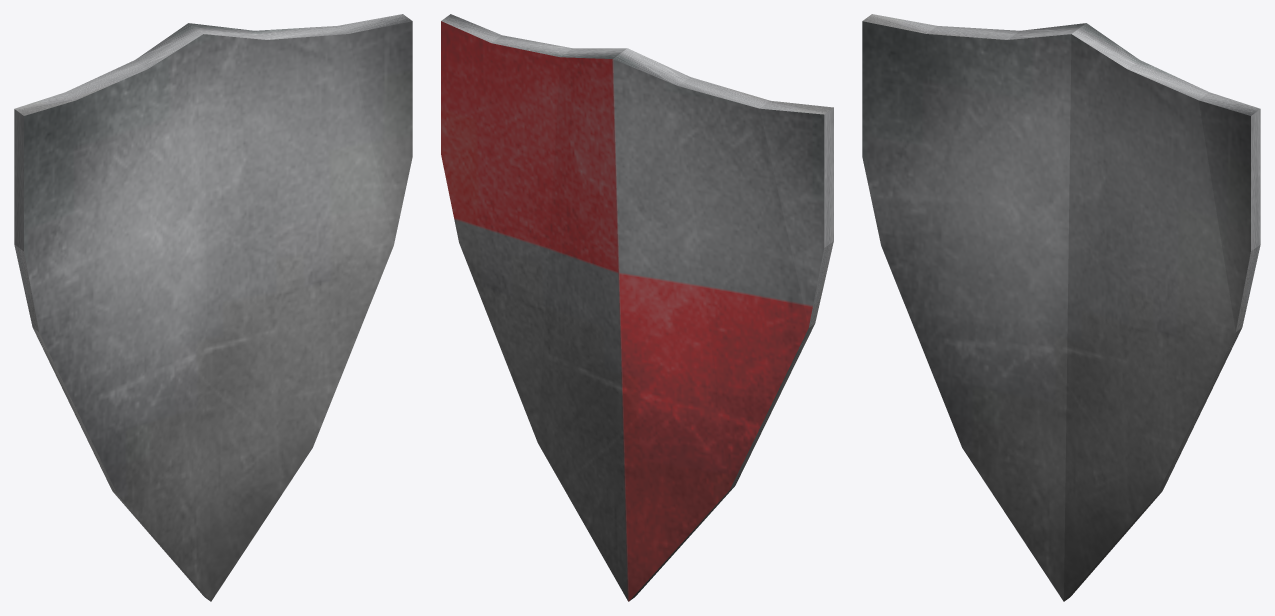
Rendered from Shield.fbx.
3 renders of one model, left to right at view 1: azimuth 30°, elevation 25°; view 2: azimuth 150°, elevation 25°; view 3: azimuth 330°, elevation 25°, orthographic.
Parts seen in each view (by area): view 1: Cube; view 2: Cube; view 3: Cube.
Part boxes in pixels (x1,y1,x2,y2): Cube: (14,14,412,601); Cube: (441,14,833,601); Cube: (862,14,1260,601).
Size of the model in its own units: 200 by 276 by 26.72.
